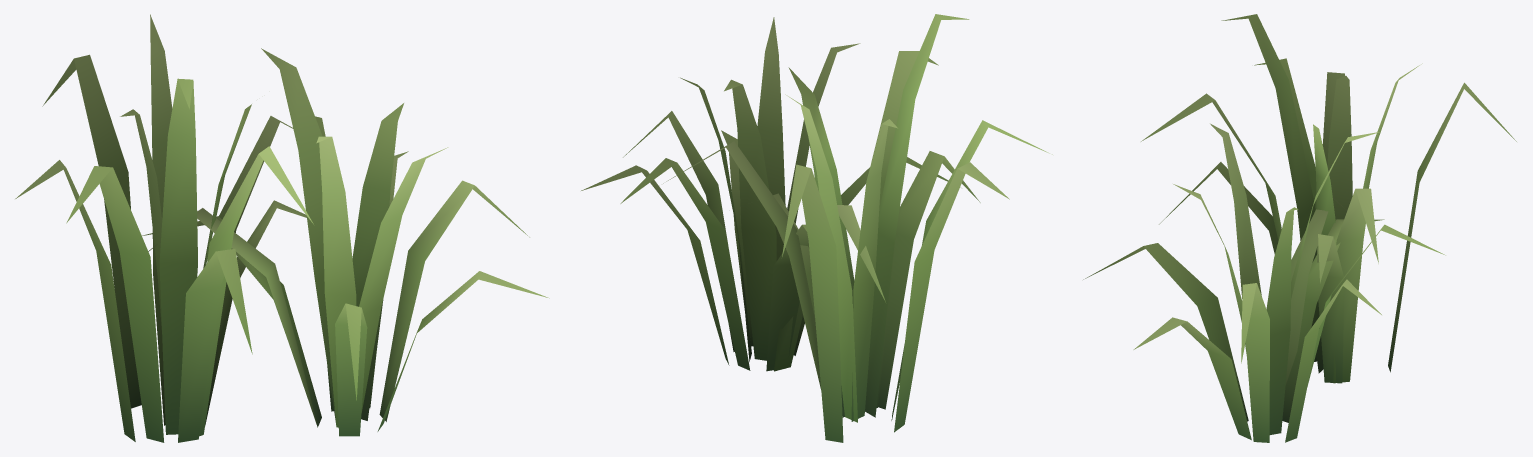
The model's file is deco-grass-v3.glb.
3 renders of one model, left to right at view 1: azimuth 30°, elevation 25°; view 2: azimuth 150°, elevation 25°; view 3: azimuth 270°, elevation 25°, orthographic. The views are drawn at different scales.
Visible parts, largest first — view 1: 0_grass; view 2: 0_grass; view 3: 0_grass.
Boxes of the visible parts, <box> form: 0_grass: <box>15,14,549,442</box>; 0_grass: <box>581,14,1052,442</box>; 0_grass: <box>1083,14,1516,442</box>.
Bounding box in the file's own units: 0.7294 × 0.5917 × 0.6881.
